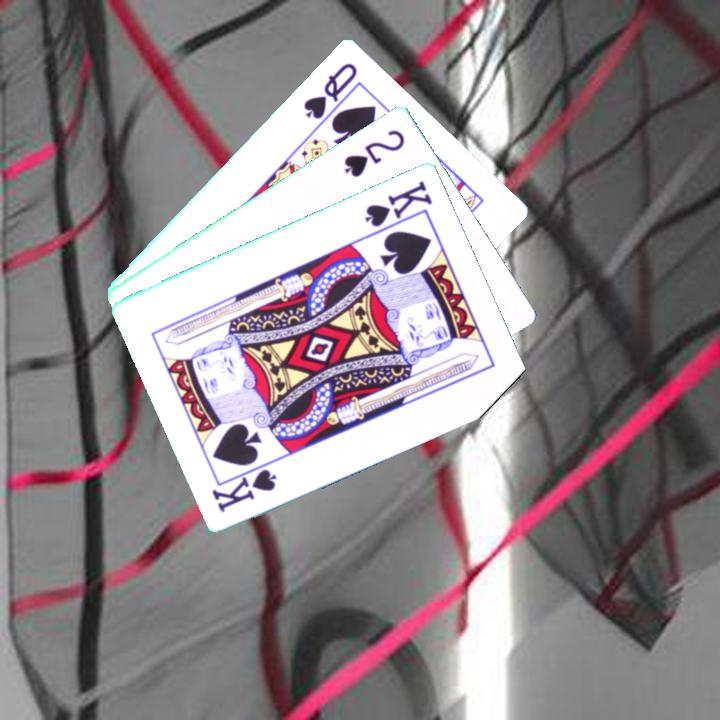2s: (340, 125, 408, 180)
Ks: (361, 176, 436, 230), (209, 465, 280, 515)
Qs: (300, 58, 362, 131)
